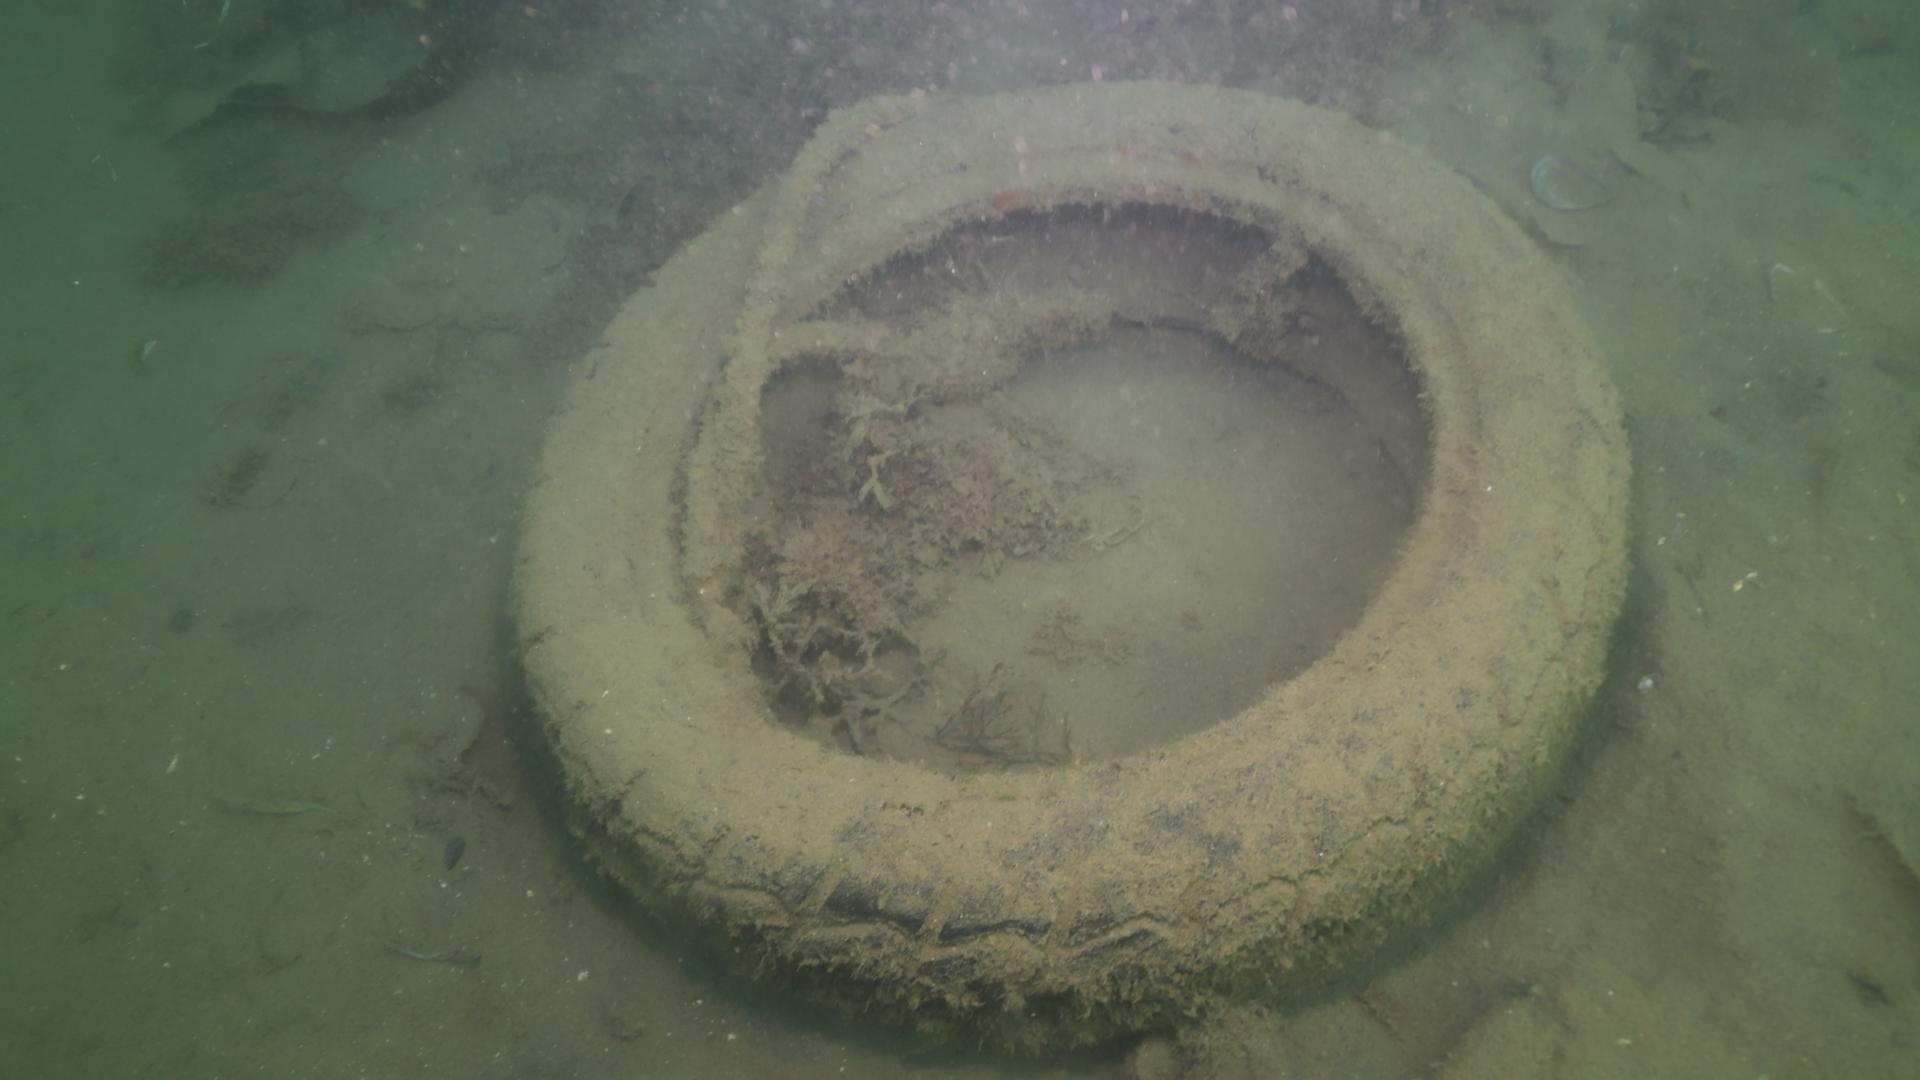bundle of ropes: (713, 91, 963, 524)
tire: (488, 76, 1648, 1048)
